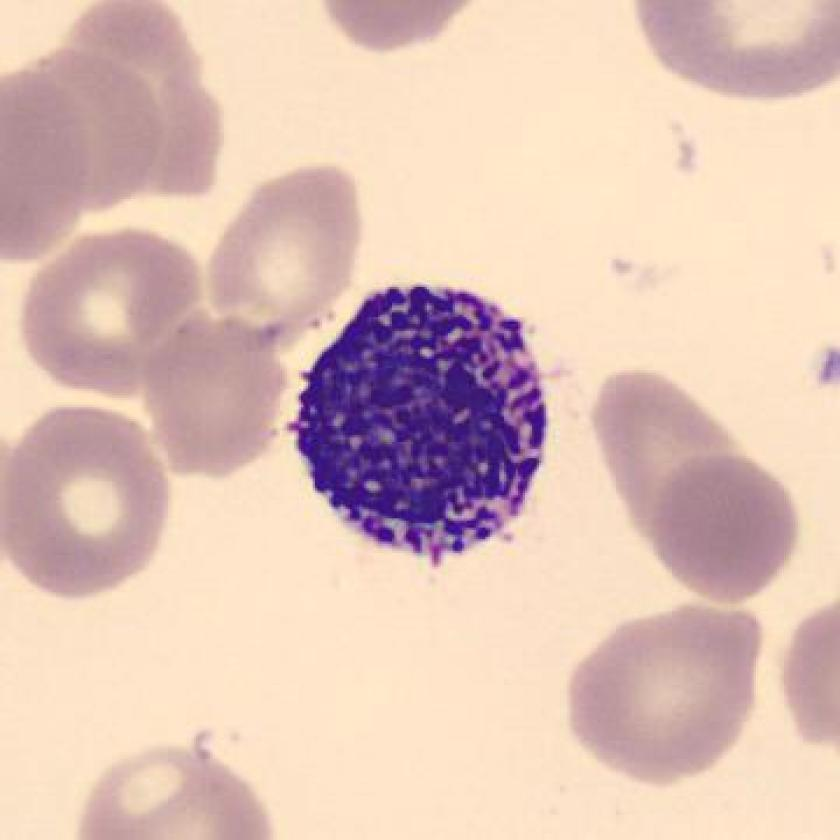basophil: (286, 276, 554, 568)
